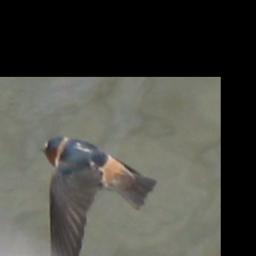Swallow: (40, 131, 158, 256)
